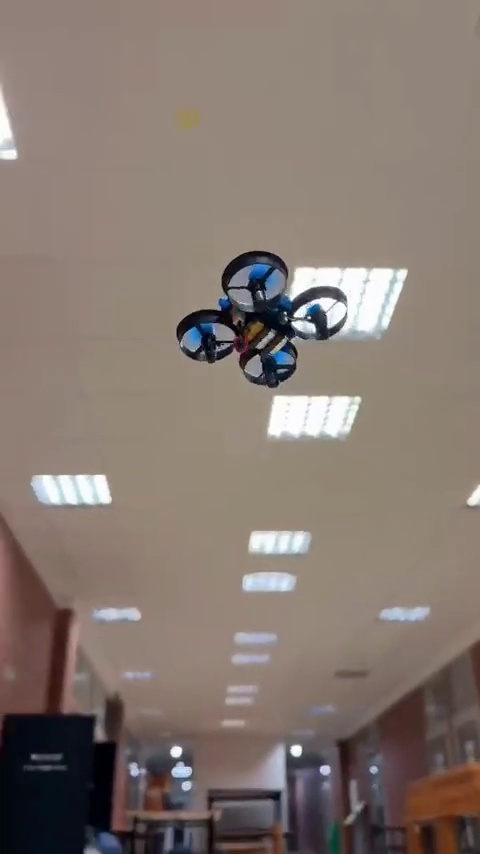drone: (182, 253, 355, 381)
